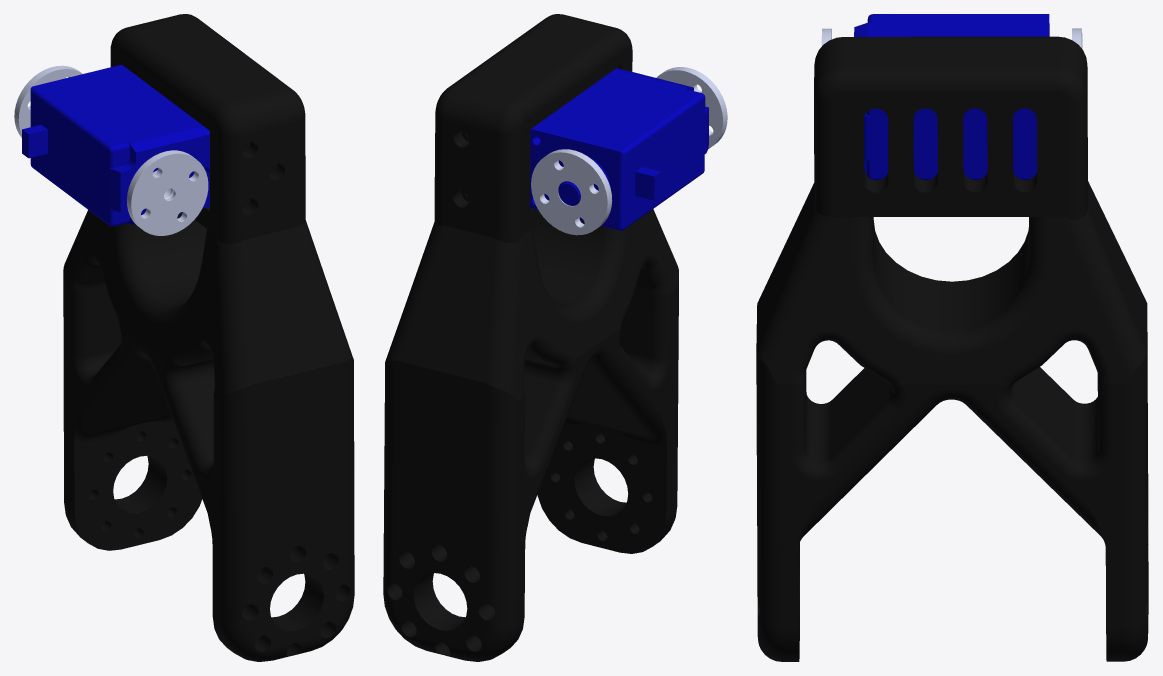
File: Solder.obj
The picture shows the model from 3 angles, left to right: view 1: azimuth 30°, elevation 25°; view 2: azimuth 150°, elevation 25°; view 3: azimuth 270°, elevation 25°; orthographic projection. The views are drawn at different scales.
Visible parts, largest first — view 1: Body1, Body2, Body1:2, Body1:3; view 2: Body1, Body2, Body1:3, Body1:2; view 3: Body1, Body2.
Part boxes in pixels (bbox=[...]): Body1: bbox=[63, 14, 354, 661]; Body2: bbox=[22, 64, 209, 226]; Body1:2: bbox=[127, 150, 208, 235]; Body1:3: bbox=[14, 65, 82, 137]; Body1: bbox=[383, 14, 678, 661]; Body2: bbox=[530, 68, 708, 230]; Body1:3: bbox=[531, 149, 612, 235]; Body1:2: bbox=[656, 67, 727, 148]; Body1: bbox=[756, 36, 1148, 661]; Body2: bbox=[854, 14, 1049, 180].
Bounding box in the file's own units: 5.78 × 13.43 × 8.04.
